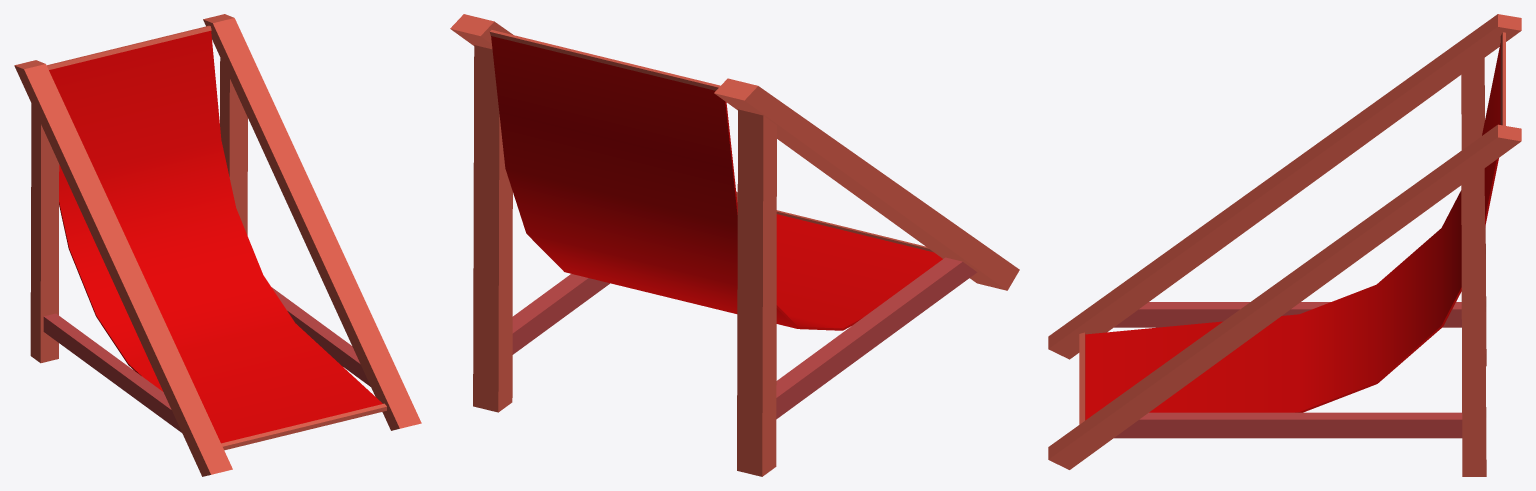
The model's file is Bed_B.fbx.
The picture shows the model from 3 angles, left to right: view 1: azimuth 30°, elevation 25°; view 2: azimuth 150°, elevation 25°; view 3: azimuth 270°, elevation 25°; orthographic projection. The views are drawn at different scales.
Parts seen in each view (by area): view 1: Bed_B; view 2: Bed_B; view 3: Bed_B.
Boxes of the visible parts, x1,y1,x2,y2 form: Bed_B: [14, 14, 421, 476]; Bed_B: [450, 14, 1019, 476]; Bed_B: [1048, 14, 1521, 476].
Size of the model in its own units: 57.08 by 73.46 by 92.48.
1 material, 1 textured.
